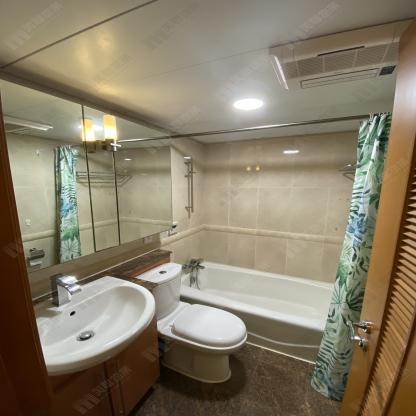Bathtub: (180, 259, 337, 364)
Faucet: (45, 273, 81, 308)
Toilet: (133, 262, 248, 382)
Toilet Sink: (32, 275, 156, 376)
